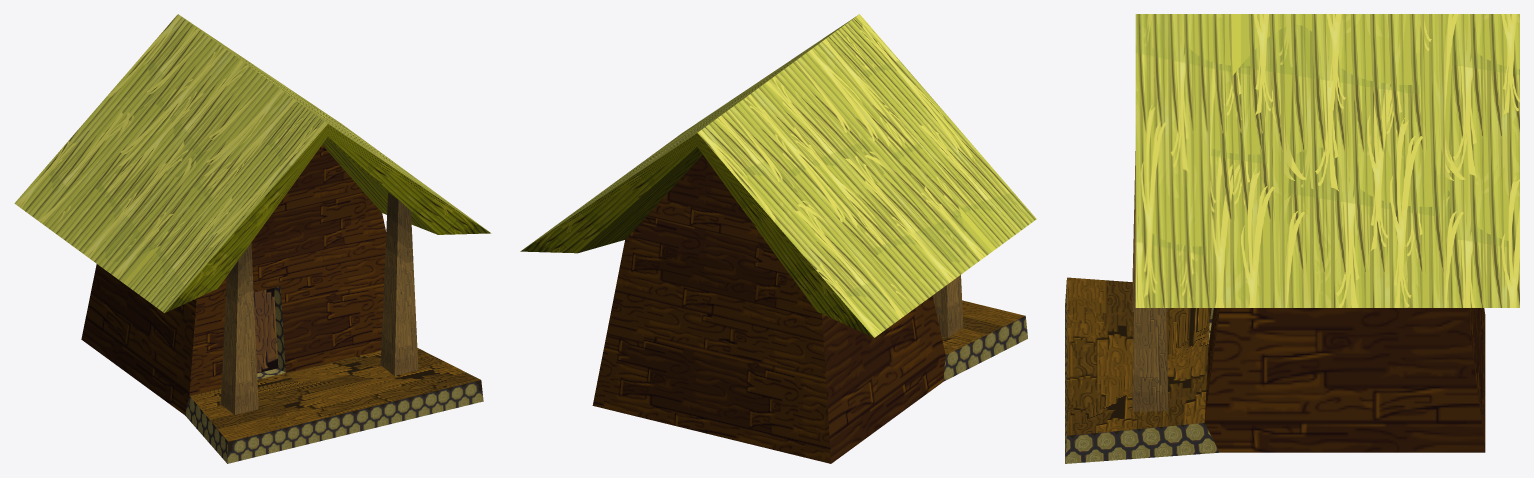
File: CasaTurista.fbx
The picture shows the model from 3 angles, left to right: view 1: azimuth 30°, elevation 25°; view 2: azimuth 150°, elevation 25°; view 3: azimuth 270°, elevation 25°; orthographic projection. The views are drawn at different scales.
Visible parts, largest first — view 1: Cube; view 2: Cube; view 3: Cube.
Boxes of the visible parts, bbox=[...] form: Cube: bbox=[14, 14, 490, 463]; Cube: bbox=[520, 14, 1036, 463]; Cube: bbox=[1065, 14, 1519, 463].
Bounding box in the file's own units: 546 × 460 × 513.
1 material, 1 textured.
